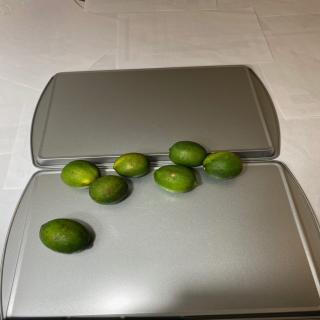Chilli: (39, 218, 90, 254)
Lemon: (153, 164, 198, 193), (60, 159, 101, 189), (203, 150, 243, 180), (88, 175, 128, 205), (168, 140, 206, 168), (113, 152, 150, 178)
